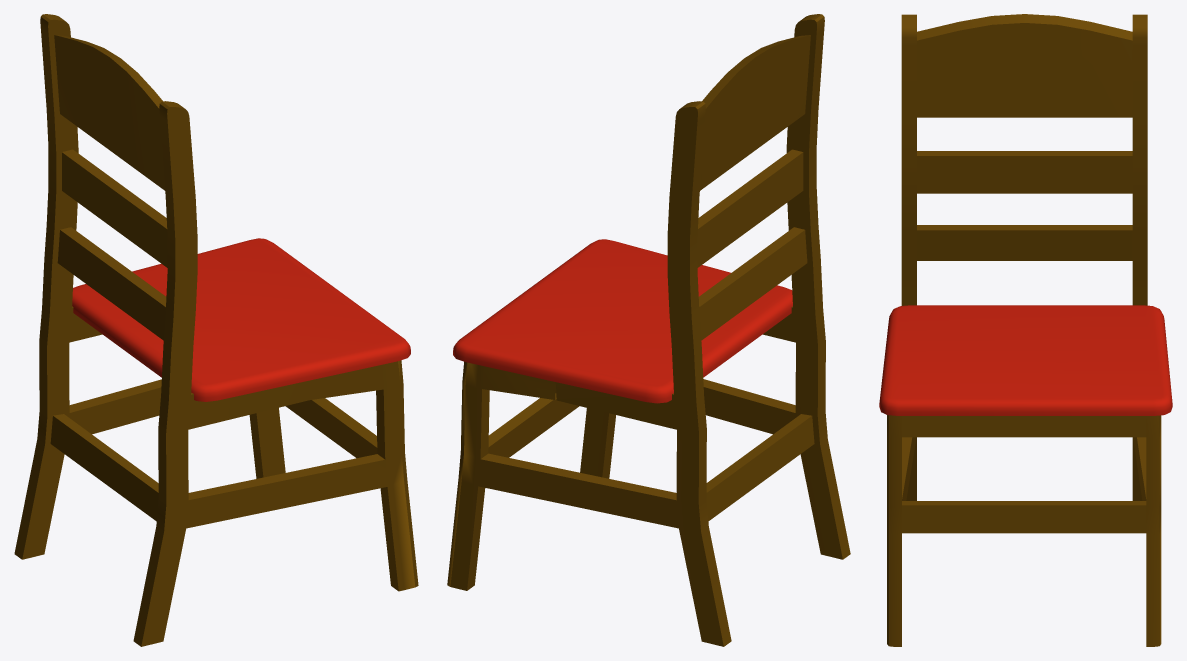
File: model_Historical_Chair.fbx
The picture shows the model from 3 angles, left to right: view 1: azimuth 30°, elevation 25°; view 2: azimuth 150°, elevation 25°; view 3: azimuth 270°, elevation 25°; orthographic projection. The views are drawn at different scales.
Visible parts, largest first — view 1: Box009, Box010; view 2: Box009, Box010; view 3: Box009, Box010.
Boxes of the visible parts, x1=… form: Box009: x1=14, y1=14, x2=418, y2=646; Box010: x1=72, y1=238, x2=410, y2=401; Box009: x1=447, y1=14, x2=850, y2=646; Box010: x1=453, y1=239, x2=792, y2=403; Box009: x1=887, y1=14, x2=1161, y2=646; Box010: x1=879, y1=305, x2=1172, y2=415.
Size of the model in its own units: 316 by 594 by 304.
